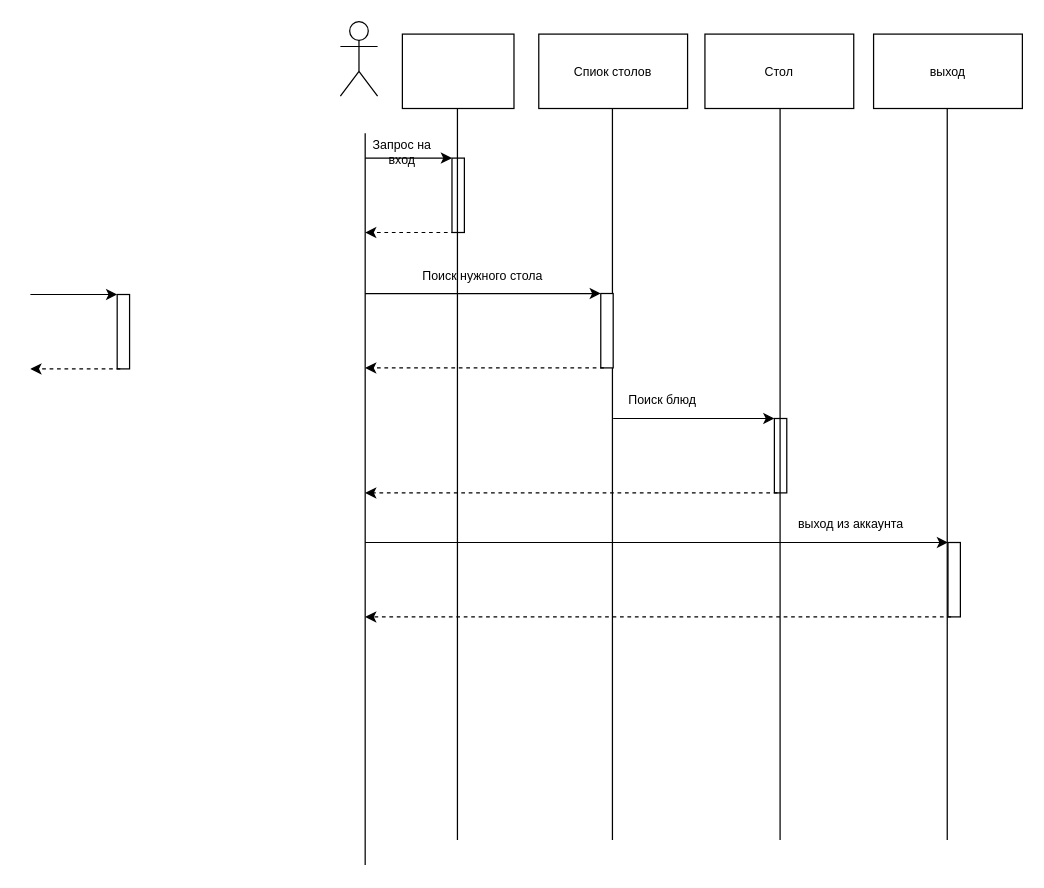
Some shapes in this 1044 by 888 pixel diagram are drawn without their labels. Here are the shapes that lost their labels. From the top down, the centre of each, then its label:
pixel 358 58: Actor
pixel 457 70: Вход
